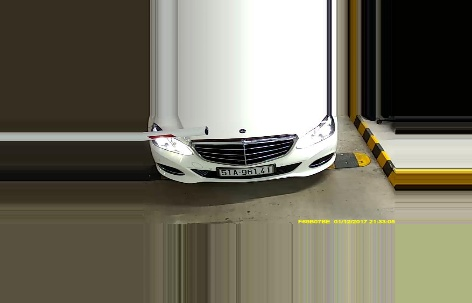plate: (216, 164, 277, 180)
